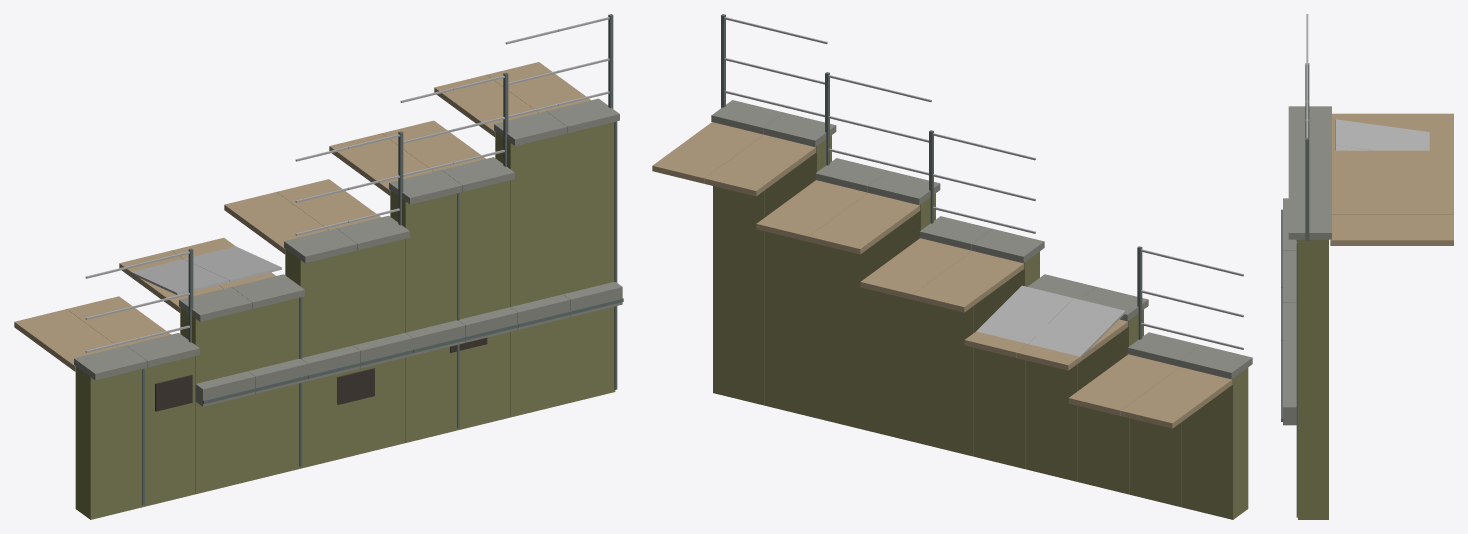
The model's file is SM_MuroRampa_v4_Escalonado_e1_Danado_LOD0.fbx.
3 views of the same model, side by side, from view 1: azimuth 30°, elevation 25°; view 2: azimuth 150°, elevation 25°; view 3: azimuth 270°, elevation 25° (orthographic). The views are drawn at different scales.
Parts seen in each view (by area): view 1: SM_muro_rampa_v17_LOD0; view 2: SM_muro_rampa_v17_LOD0; view 3: SM_muro_rampa_v17_LOD0.
Boxes of the visible parts, x1=… form: SM_muro_rampa_v17_LOD0: x1=14, y1=14, x2=623, y2=519; SM_muro_rampa_v17_LOD0: x1=652, y1=14, x2=1252, y2=519; SM_muro_rampa_v17_LOD0: x1=1281, y1=14, x2=1453, y2=519.
Size of the model in its own units: 10.03 by 6.8 by 2.8.
